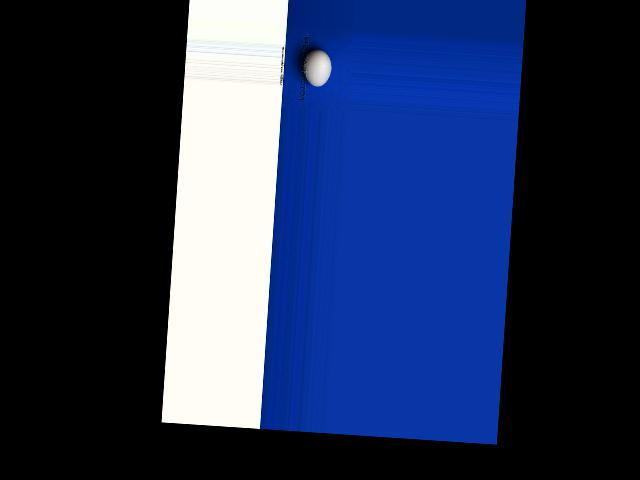egg: (301, 48, 332, 87)
